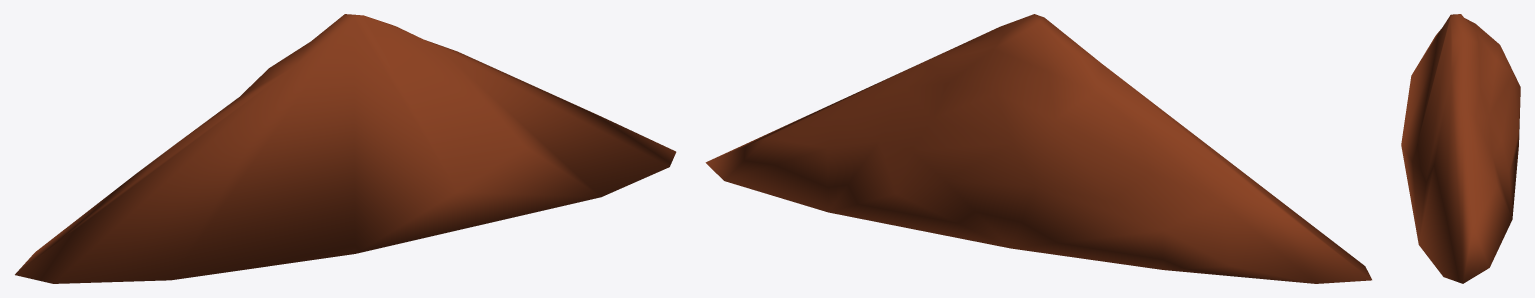
Rendered from montagne.glb.
3 views of the same model, side by side, from view 1: azimuth 30°, elevation 25°; view 2: azimuth 150°, elevation 25°; view 3: azimuth 270°, elevation 25° (orthographic). The views are drawn at different scales.
Visible parts, largest first — view 1: Cone.012; view 2: Cone.012; view 3: Cone.012.
Boxes of the visible parts, <box> form: Cone.012: <box>15,14,676,283</box>; Cone.012: <box>705,14,1371,283</box>; Cone.012: <box>1401,14,1520,283</box>.
Bounding box in the file's own units: 81.93 × 26.02 × 18.06.
